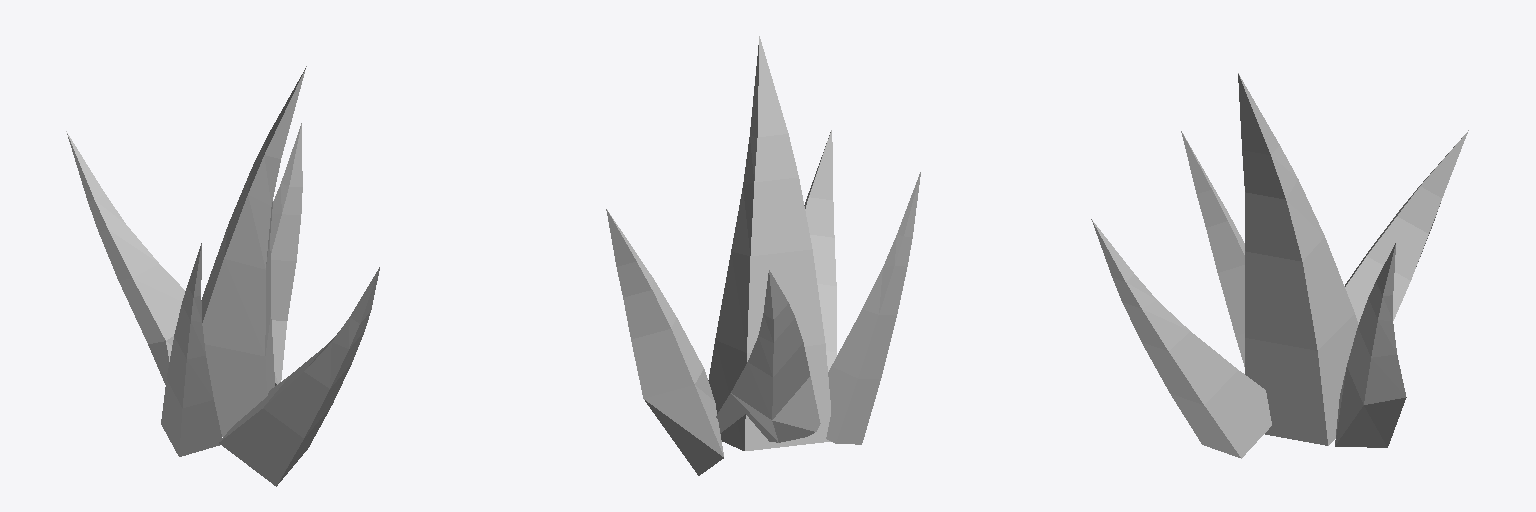
Rendered from grass.obj.
3 renders of one model, left to right at view 1: azimuth 30°, elevation 25°; view 2: azimuth 150°, elevation 25°; view 3: azimuth 270°, elevation 25°, orthographic.
Parts seen in each view (by area): view 1: grass_V3.001_Cube.002; view 2: grass_V3.001_Cube.002; view 3: grass_V3.001_Cube.002.
Boxes of the visible parts, <box> form: grass_V3.001_Cube.002: <box>66,66,379,486</box>; grass_V3.001_Cube.002: <box>606,36,920,475</box>; grass_V3.001_Cube.002: <box>1091,73,1468,458</box>.
Bounding box in the file's own units: 1.01 × 1.83 × 1.58.